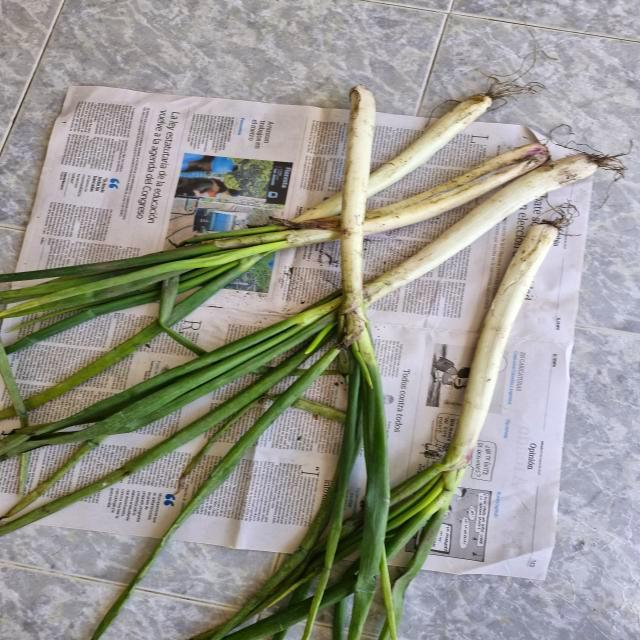green_onion: (0, 135, 567, 373), (280, 211, 567, 640)
